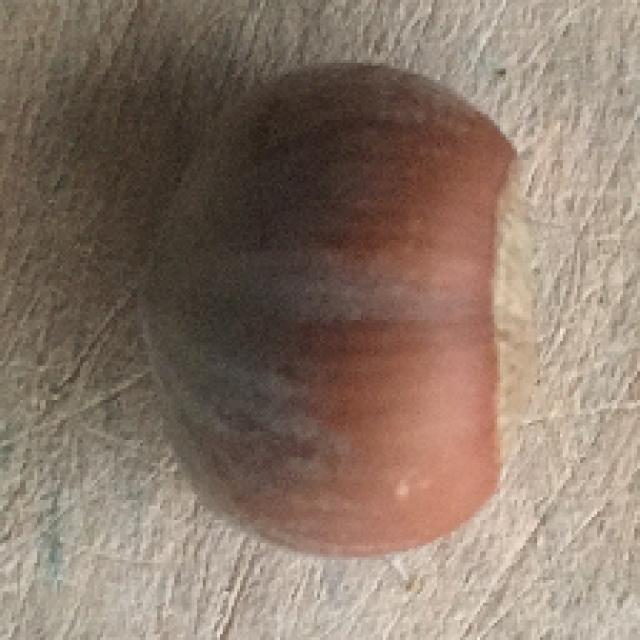qualityHazelnut: (136, 55, 542, 566)
